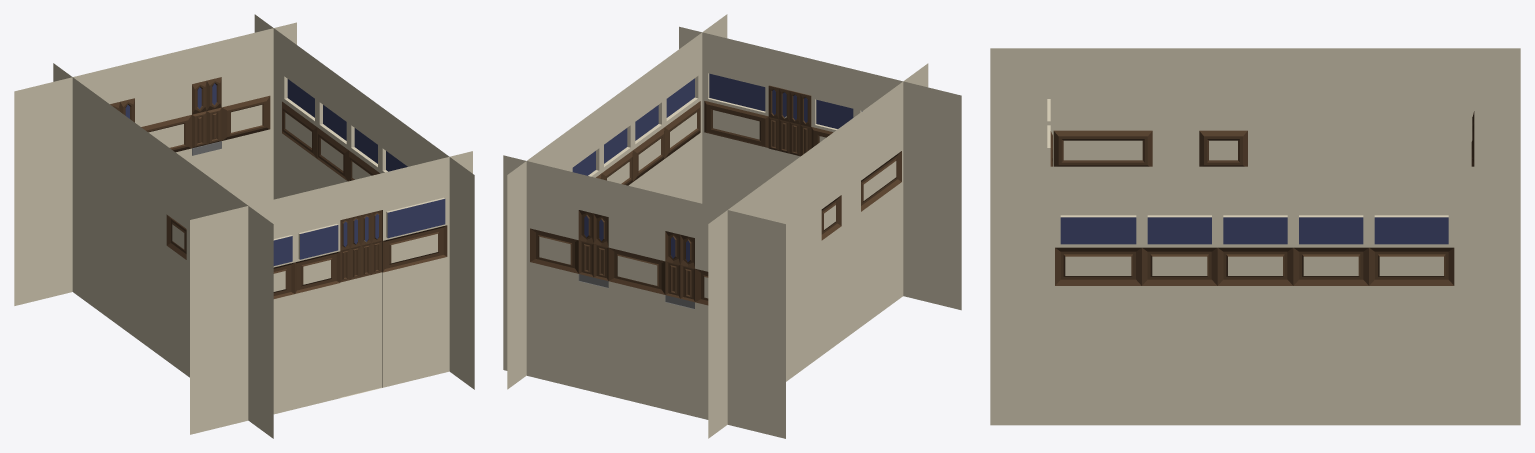
The model's file is Bar_Fight_Walls.fbx.
3 renders of one model, left to right at view 1: azimuth 30°, elevation 25°; view 2: azimuth 150°, elevation 25°; view 3: azimuth 270°, elevation 25°, orthographic. The views are drawn at different scales.
Parts seen in each view (by area): view 1: Walls; view 2: Walls; view 3: Walls.
Part boxes in pixels (x1,y1,x2,y2): Walls: (14,14,474,438); Walls: (503,14,961,438); Walls: (990,48,1520,425).
Bounding box in the file's own units: 275 × 200 × 371.
